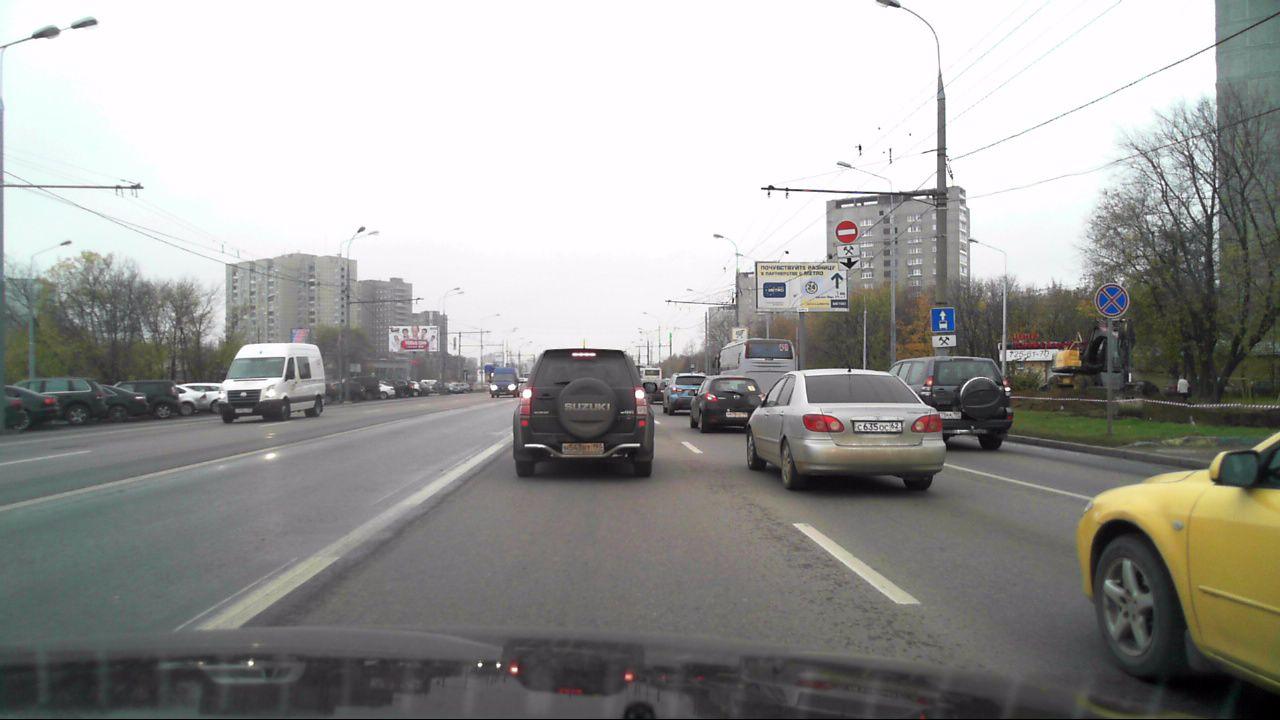No Parking: (1092, 282, 1130, 320)
